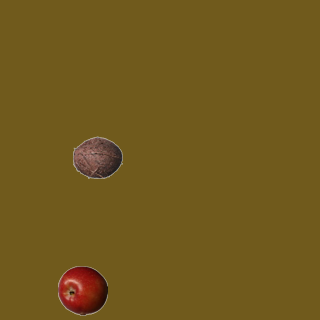Apple Braeburn: (57, 265, 107, 315)
Cocos: (72, 132, 122, 182)
